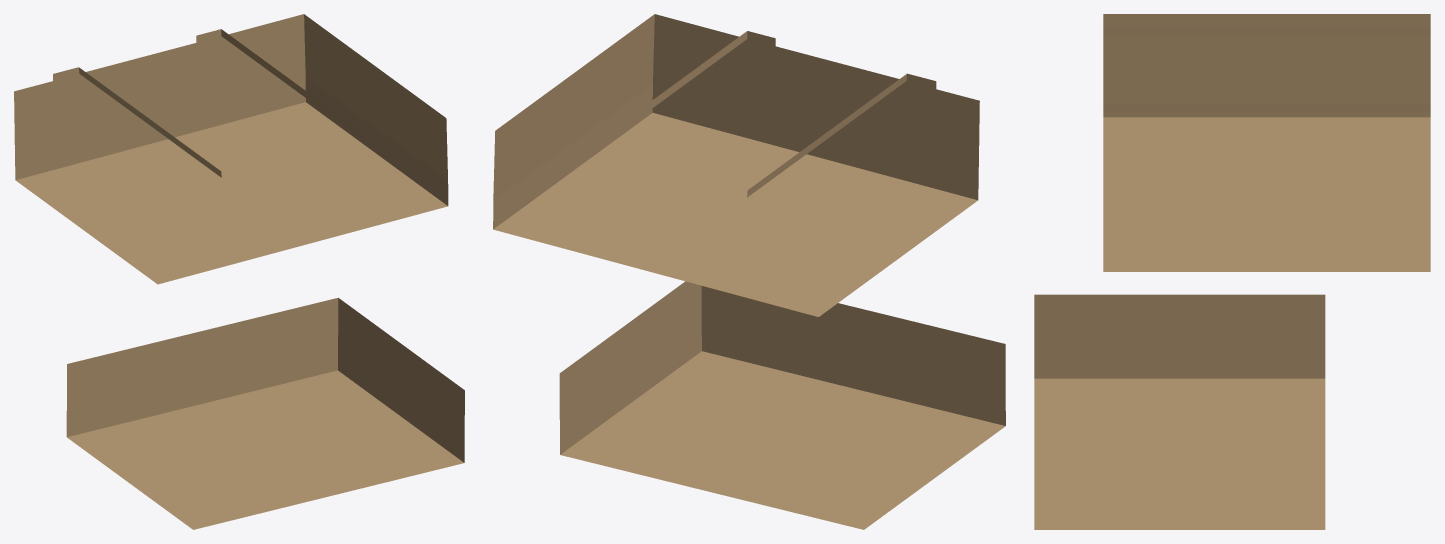
The picture shows the model from 3 angles, left to right: view 1: azimuth 30°, elevation 25°; view 2: azimuth 150°, elevation 25°; view 3: azimuth 270°, elevation 25°; orthographic projection. The views are drawn at different scales.
Visible parts, largest first — view 1: 0_0_2_0_1_1_0_2_0; view 2: 0_0_2_0_1_1_0_2_0; view 3: 0_0_2_0_1_1_0_2_0.
Boxes of the visible parts, x1,y1,x2,y2 form: 0_0_2_0_1_1_0_2_0: [14, 14, 464, 529]; 0_0_2_0_1_1_0_2_0: [493, 14, 1005, 529]; 0_0_2_0_1_1_0_2_0: [1034, 14, 1430, 529].
Size of the model in its own units: 31.95 by 34.07 by 32.7.
